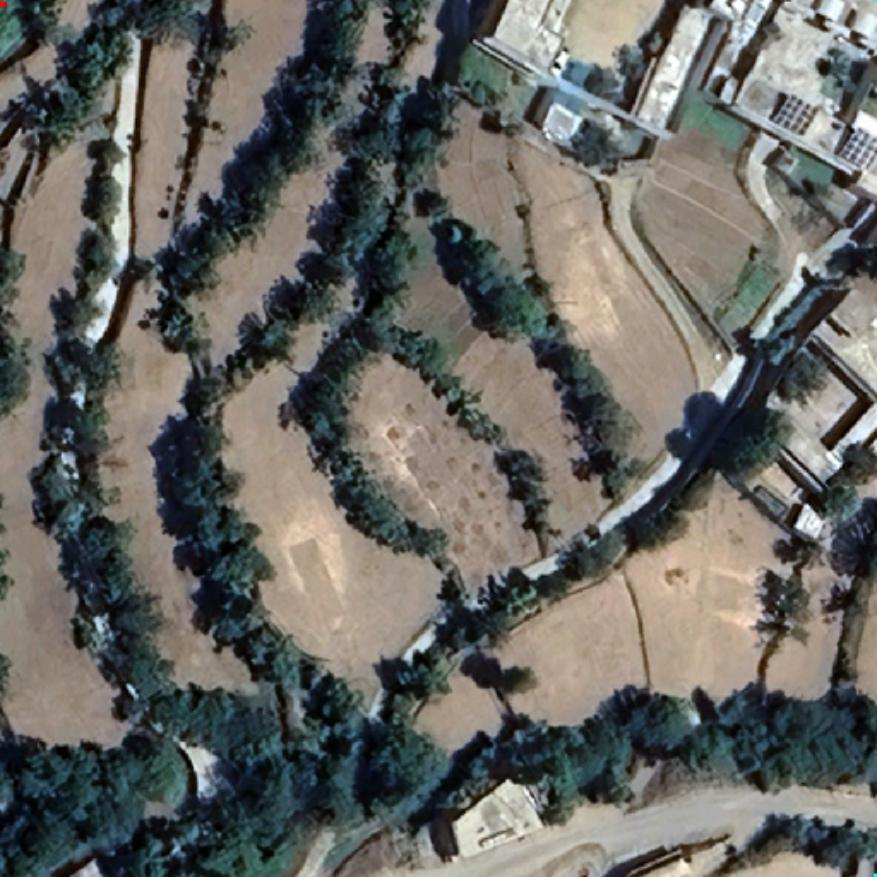Solarpanel: (774, 92, 818, 136), (839, 126, 876, 172)
